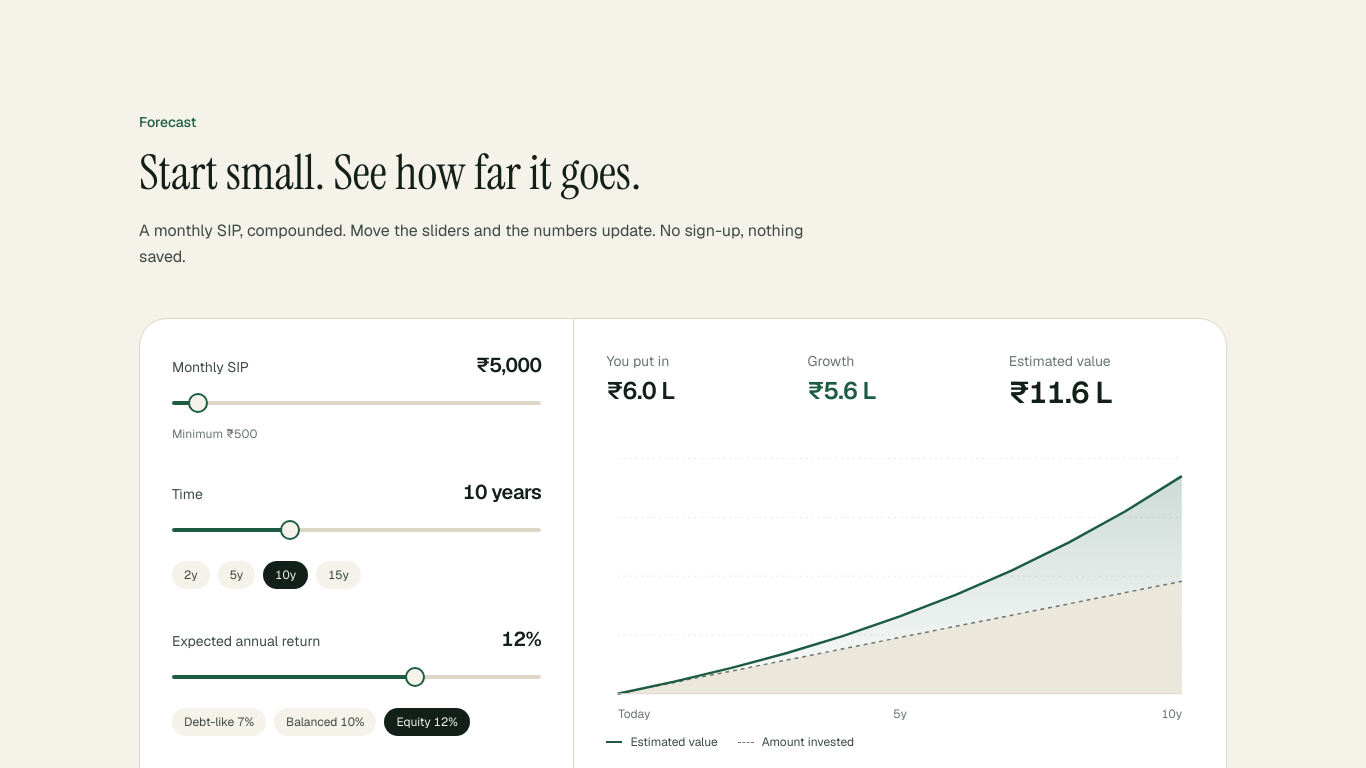
Test: Forecast › applies a return preset
Click the button "Debt-like 7%".
click(219, 722)  # box [172, 708, 266, 736]
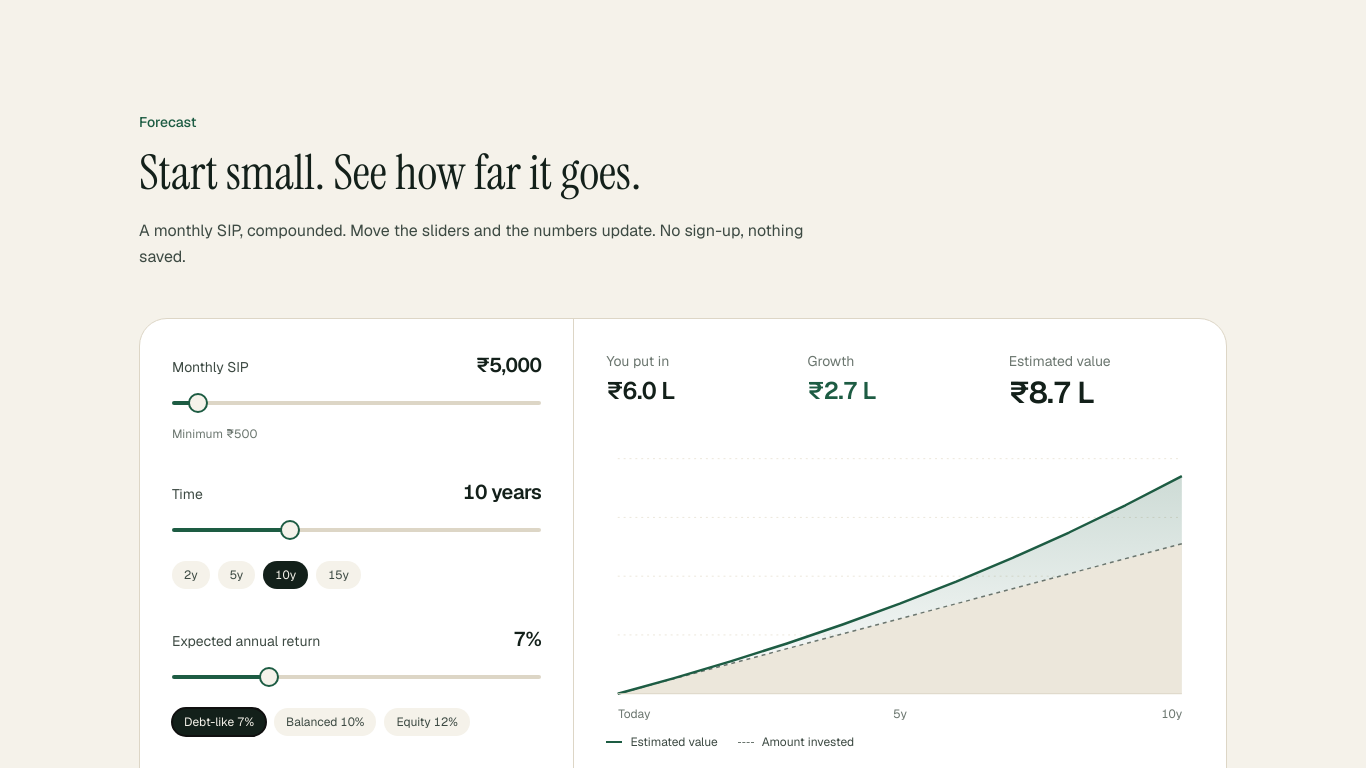
Expected: the text "7%" is shown, [514, 625, 541, 653]
